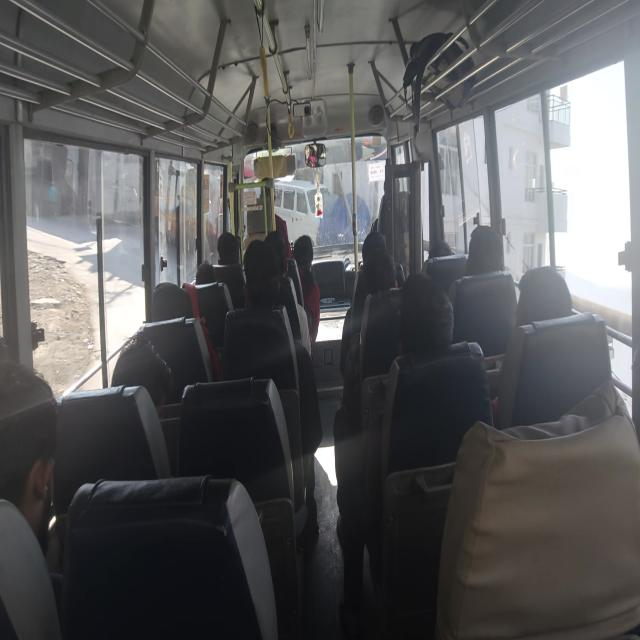person: (336, 271, 494, 634), (221, 238, 323, 542), (0, 359, 62, 637), (448, 224, 517, 357), (340, 230, 397, 378), (264, 230, 312, 360), (292, 234, 320, 354), (48, 143, 78, 215), (465, 224, 503, 275), (216, 231, 241, 265)
